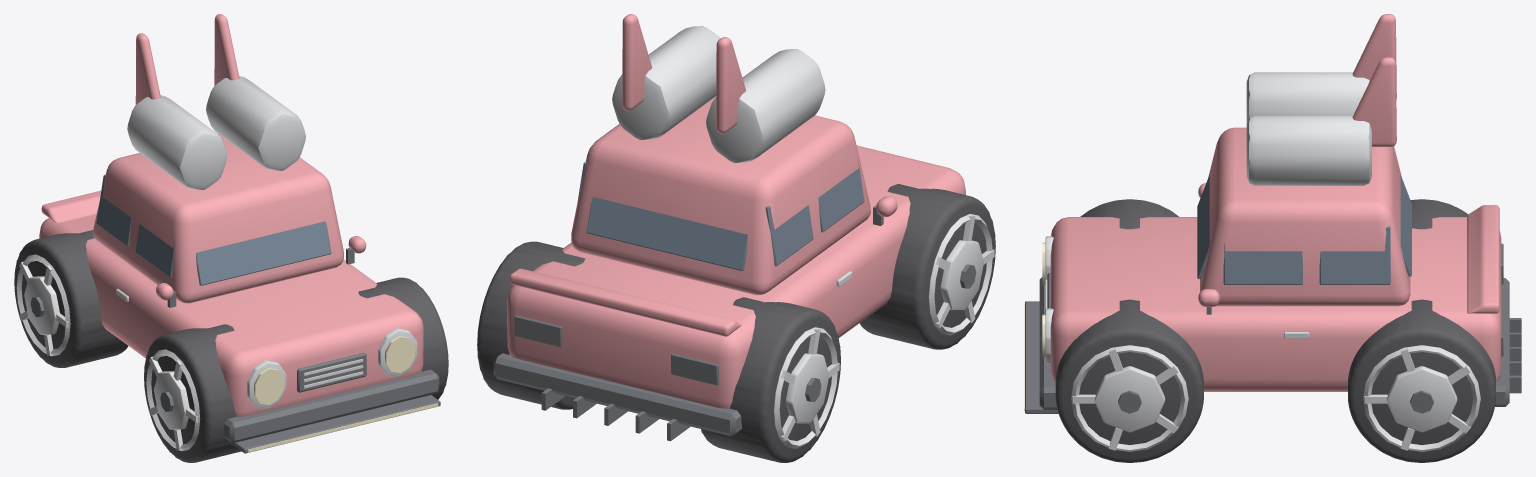
Rendered from rocket_car.fbx.
3 views of the same model, side by side, from view 1: azimuth 30°, elevation 25°; view 2: azimuth 150°, elevation 25°; view 3: azimuth 270°, elevation 25° (orthographic). The views are drawn at different scales.
Visible parts, largest first — view 1: Body, Metal, Trim, Wheel_RR, Glass, Wheel_FR, Wheel_FL, Light; view 2: Body, Metal, Trim, Wheel_FR, Wheel_RR, Glass, Wheel_RL; view 3: Body, Metal, Wheel_FL, Wheel_RL, Glass, Trim, Wheel_FR, Wheel_RR.
Part boxes in pixels (left/top/right/bottom): Body: left=39, top=14, right=423, bottom=416; Metal: left=16, top=76, right=417, bottom=450; Trim: left=30, top=248, right=440, bottom=453; Wheel_RR: left=14, top=230, right=128, bottom=367; Glass: left=96, top=174, right=331, bottom=285; Wheel_FR: left=144, top=324, right=241, bottom=462; Wheel_FL: left=358, top=277, right=448, bottom=399; Light: left=247, top=336, right=438, bottom=452; Body: left=507, top=14, right=965, bottom=408; Metal: left=612, top=26, right=994, bottom=448; Trim: left=493, top=205, right=976, bottom=441; Wheel_FR: left=859, top=184, right=995, bottom=349; Wheel_RR: left=701, top=297, right=840, bottom=462; Glass: left=577, top=158, right=864, bottom=270; Wheel_RL: left=477, top=241, right=585, bottom=409; Body: left=1050, top=14, right=1501, bottom=391; Metal: left=1045, top=72, right=1480, bottom=451; Wheel_FL: left=1055, top=299, right=1203, bottom=462; Wheel_RL: left=1348, top=299, right=1495, bottom=462; Glass: left=1197, top=175, right=1411, bottom=284; Trim: left=1025, top=243, right=1521, bottom=413; Wheel_FR: left=1080, top=199, right=1178, bottom=229; Wheel_RR: left=1410, top=199, right=1467, bottom=229.
Size of the model in its own units: 3.83 by 4.5 by 5.6.
